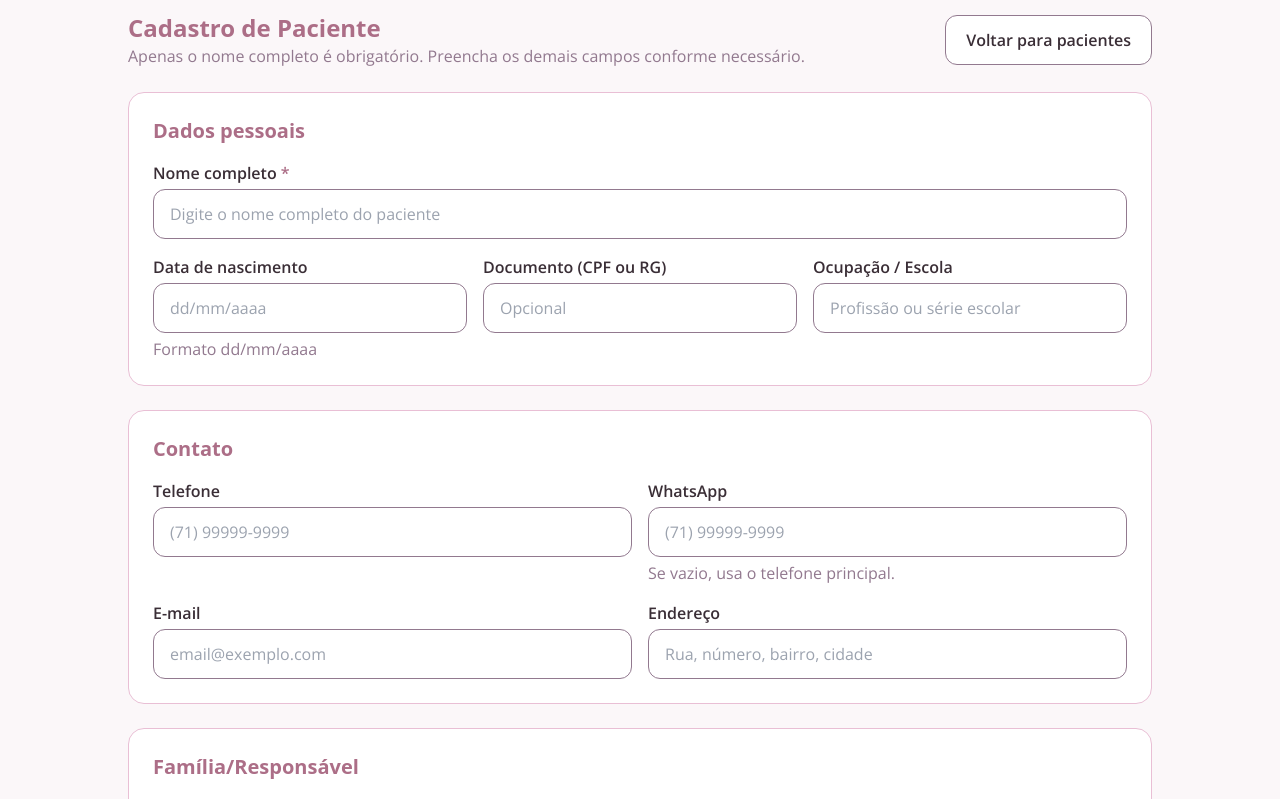
it: Tela T06 — Formulário de Paciente (F3-T3) › aplica máscara de data e telefone, calcula idade (RN12) e destaca responsável para menores de 18 anos (RN13)
Type "10082016" into the field labelled "Data de nascimento" at (310, 308), box [153,283,467,333]
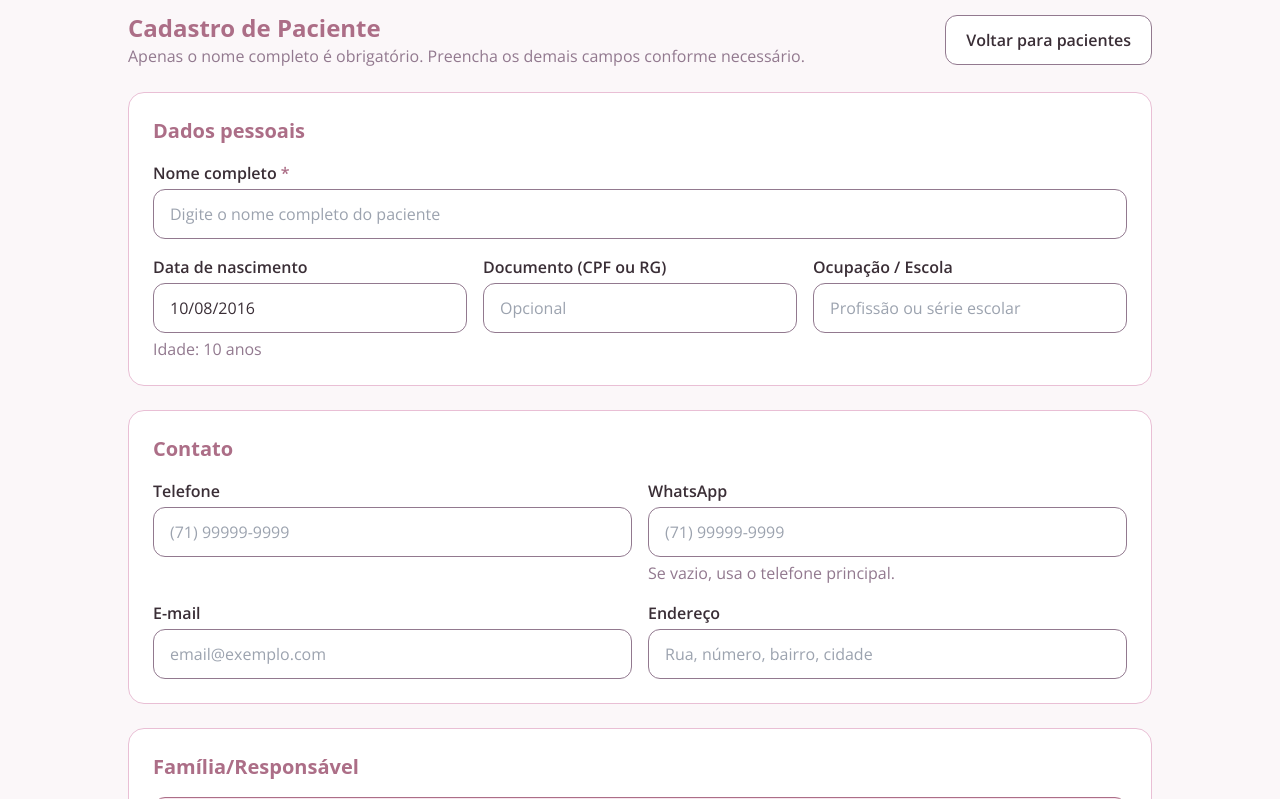
Expected: the field labelled "Data de nascimento" holds "10/08/2016"
Replace the text in the field labelled "Data de nascimento" with "15051990" at (310, 308), box [153,283,467,333]
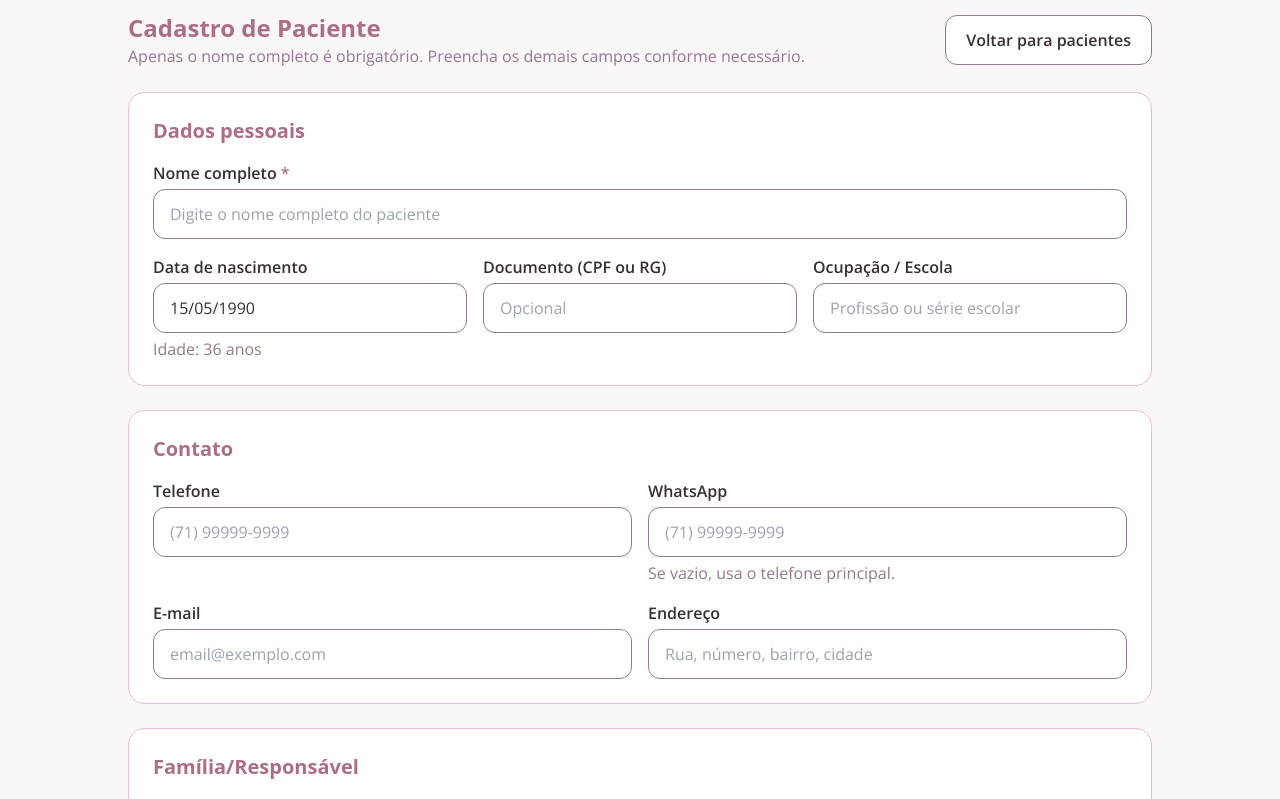
Expected: the field labelled "Data de nascimento" holds "15/05/1990", [153,283,467,333]
Digitar telefone aplica máscara (DD) 9XXXX-XXXX
Type "71998765432" into the field labelled "Telefone" at (392, 532), box [153,507,632,557]
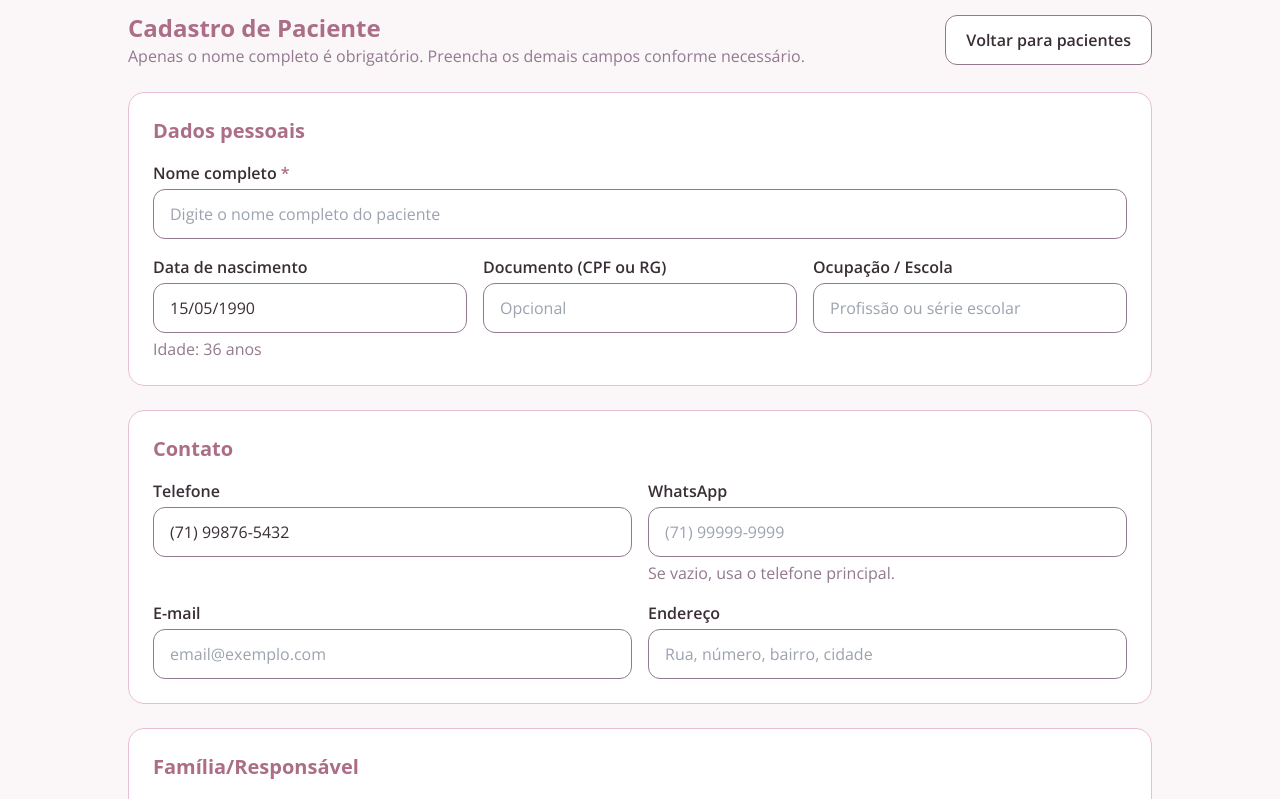
Expected: the field labelled "Telefone" holds "(71) 99876-5432", [153,507,632,557]
